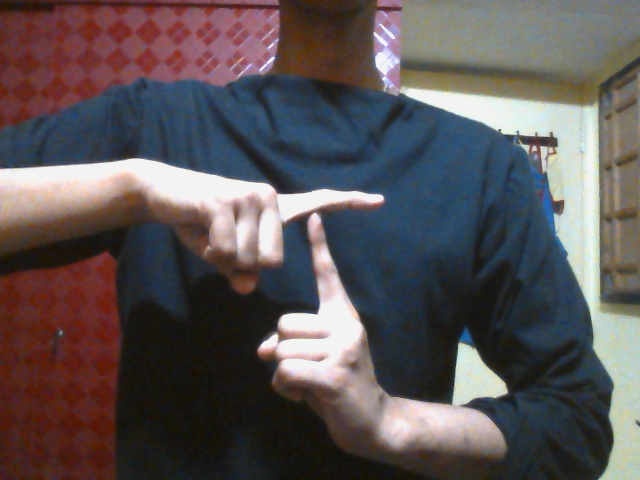T: (156, 164, 397, 432)
